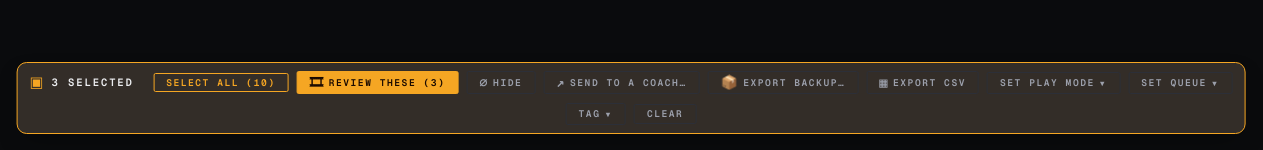
BulkActionBar › bulk tag › closes the tag menu on Escape without tagging anything
Click the button "Tag ▾".
click(596, 114)  # box [566,104,626,125]
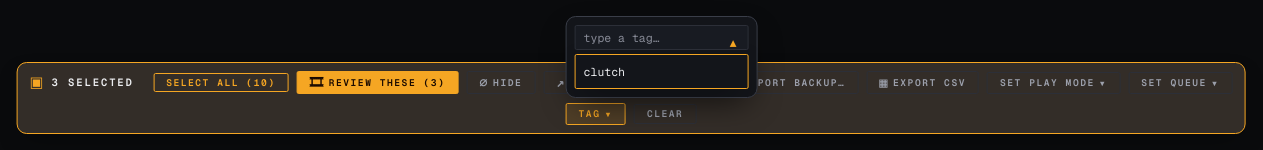
Press Escape in the dropdown named "Tag selected matches", box [575,25,749,50]
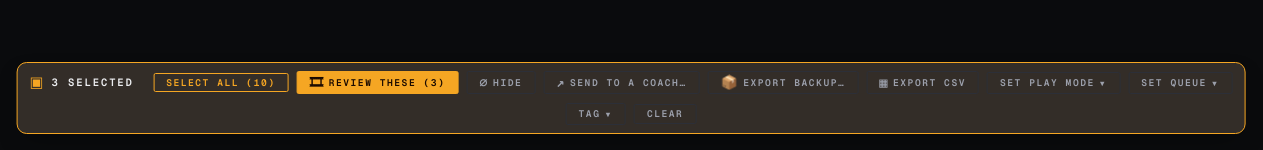
Expected: the button "Tag ▾" is collapsed, [566,104,626,125]
